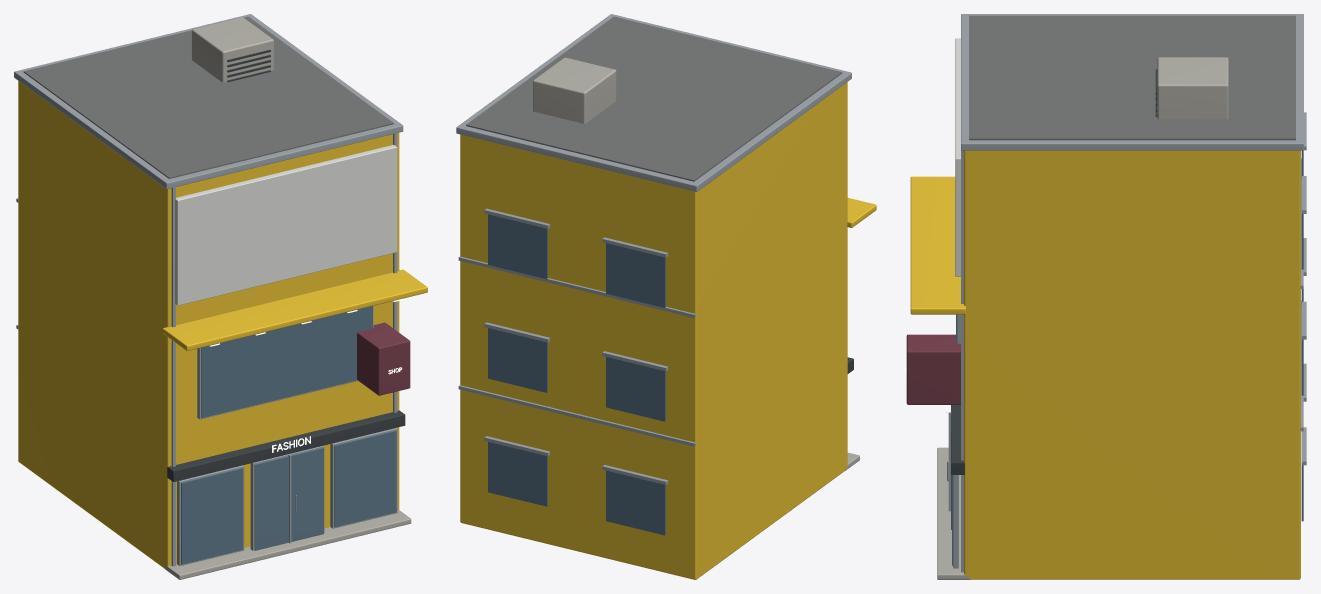
File: 01_bld.glb
The picture shows the model from 3 angles, left to right: view 1: azimuth 30°, elevation 25°; view 2: azimuth 150°, elevation 25°; view 3: azimuth 270°, elevation 25°; orthographic projection. The views are drawn at different scales.
Visible parts, largest first — view 1: Building solid shell, Roof surface, Blank billboard, Upper display glass, Canopy, Shop entrance glass, Roof coping, Display window glass.001, Display window glass, Shop lintel, Roof service enclosure, Stone threshold (+6 smaller); view 2: Building solid shell, Roof surface, Roof coping, Roof service enclosure, Rear glazing.003, Rear glazing.005, Rear glazing, Rear glazing.001, Rear glazing.002, Rear glazing.004, Rear floor band, Rear floor band.001 (+1 smaller); view 3: Building solid shell, Roof surface, Canopy, Roof coping, Roof service enclosure, SHOP sign case, Stone threshold, Blank billboard, Facade edge trim.001, Shop lintel, Display window frame.001.
Boxes of the visible parts, box(x1,y1,x2,y2) form: Building solid shell: box(18, 81, 399, 568); Roof surface: box(23, 16, 393, 178); Blank billboard: box(175, 145, 397, 305); Upper display glass: box(201, 306, 372, 417); Canopy: box(162, 269, 427, 350); Shop entrance glass: box(254, 448, 323, 550); Roof coping: box(14, 14, 403, 189); Display window glass.001: box(334, 430, 396, 527); Display window glass: box(181, 468, 243, 564); Shop lintel: box(167, 410, 405, 481); Roof service enclosure: box(191, 17, 273, 82); Stone threshold: box(165, 510, 411, 579); Building solid shell: box(460, 82, 847, 579); Roof surface: box(466, 16, 842, 181); Roof coping: box(456, 14, 851, 191); Roof service enclosure: box(533, 57, 616, 123); Rear glazing.003: box(488, 328, 547, 392); Rear glazing.005: box(488, 214, 547, 279); Rear glazing: box(606, 470, 665, 535); Rear glazing.001: box(488, 442, 547, 506); Rear glazing.002: box(606, 357, 665, 421); Rear glazing.004: box(606, 243, 665, 307); Rear floor band: box(458, 385, 695, 446); Rear floor band.001: box(458, 256, 695, 317); Building solid shell: box(964, 150, 1300, 579); Roof surface: box(969, 15, 1295, 140); Canopy: box(910, 176, 965, 314); Roof coping: box(961, 14, 1303, 150); Roof service enclosure: box(1157, 57, 1228, 119); SHOP sign case: box(906, 334, 960, 404); Stone threshold: box(937, 447, 970, 579); Blank billboard: box(955, 38, 960, 276); Facade edge trim.001: box(961, 150, 963, 572); Shop lintel: box(951, 405, 964, 474); Display window frame.001: box(953, 475, 958, 568).
Bounding box in the file's own units: 7.9 × 13.2 × 10.14.
